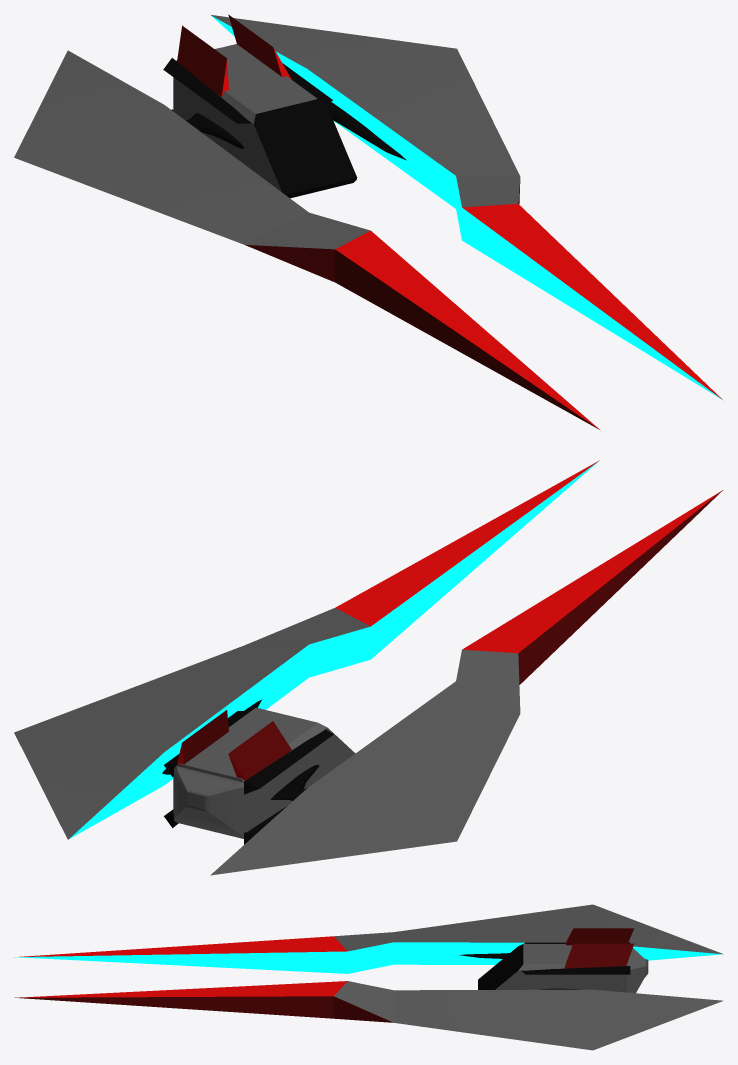
The model's file is FoxShip.fbx.
3 views of the same model, one above another, from view 1: azimuth 30°, elevation 25°; view 2: azimuth 150°, elevation 25°; view 3: azimuth 270°, elevation 25° (orthographic). The views are drawn at different scales.
Visible parts, largest first — view 1: pasted__pCube2; view 2: pasted__pCube2; view 3: pasted__pCube2.
Boxes of the visible parts, box(x1,y1,x2,y2) form: pasted__pCube2: box(14, 14, 723, 430); pasted__pCube2: box(14, 460, 722, 875); pasted__pCube2: box(14, 904, 723, 1050).
Size of the model in its own units: 16.12 by 3.18 by 32.99.
